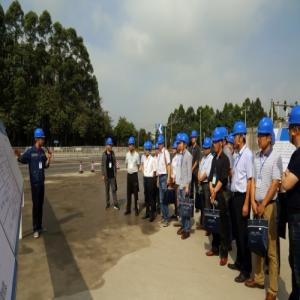blue: (257, 116, 274, 151), (289, 106, 300, 144), (233, 122, 247, 150), (213, 129, 225, 152), (35, 129, 46, 149), (180, 134, 189, 153), (203, 138, 212, 157), (227, 135, 235, 154), (145, 141, 153, 157), (107, 137, 114, 153), (192, 130, 199, 146), (172, 141, 179, 156), (159, 134, 165, 150), (129, 137, 135, 152), (156, 142, 160, 156)
